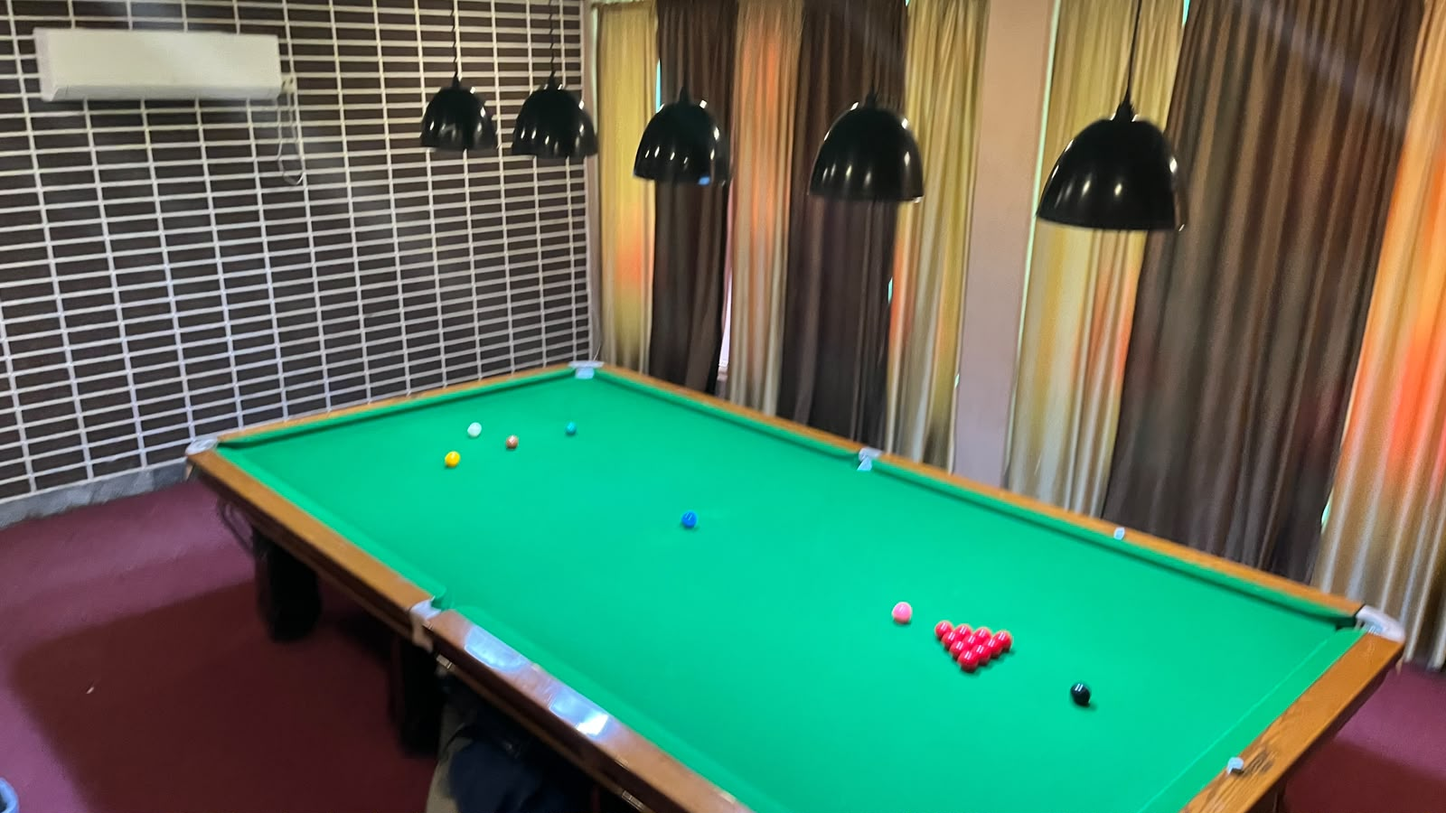Snooker: (925, 609, 1028, 703)
